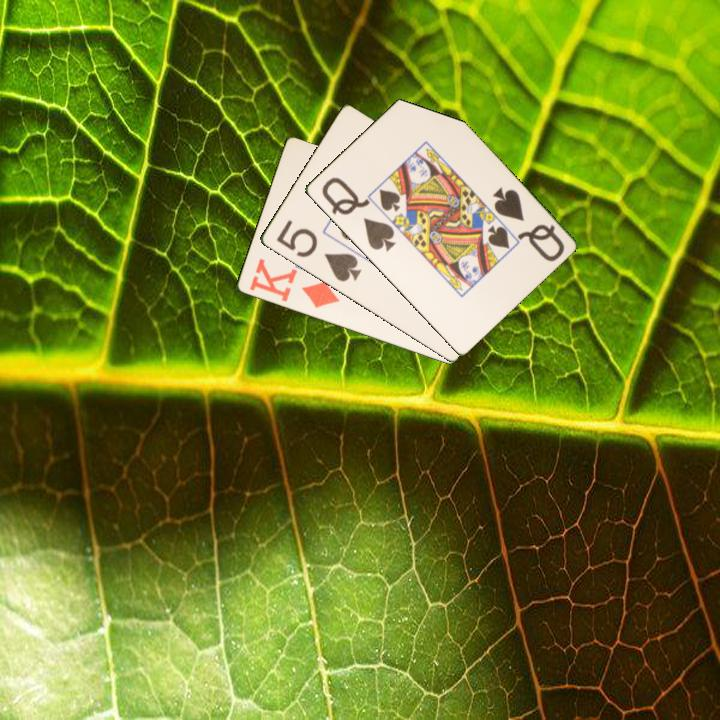5s: (272, 216, 364, 285)
Kd: (245, 255, 342, 311)
Qs: (317, 173, 398, 255), (488, 184, 567, 265)
